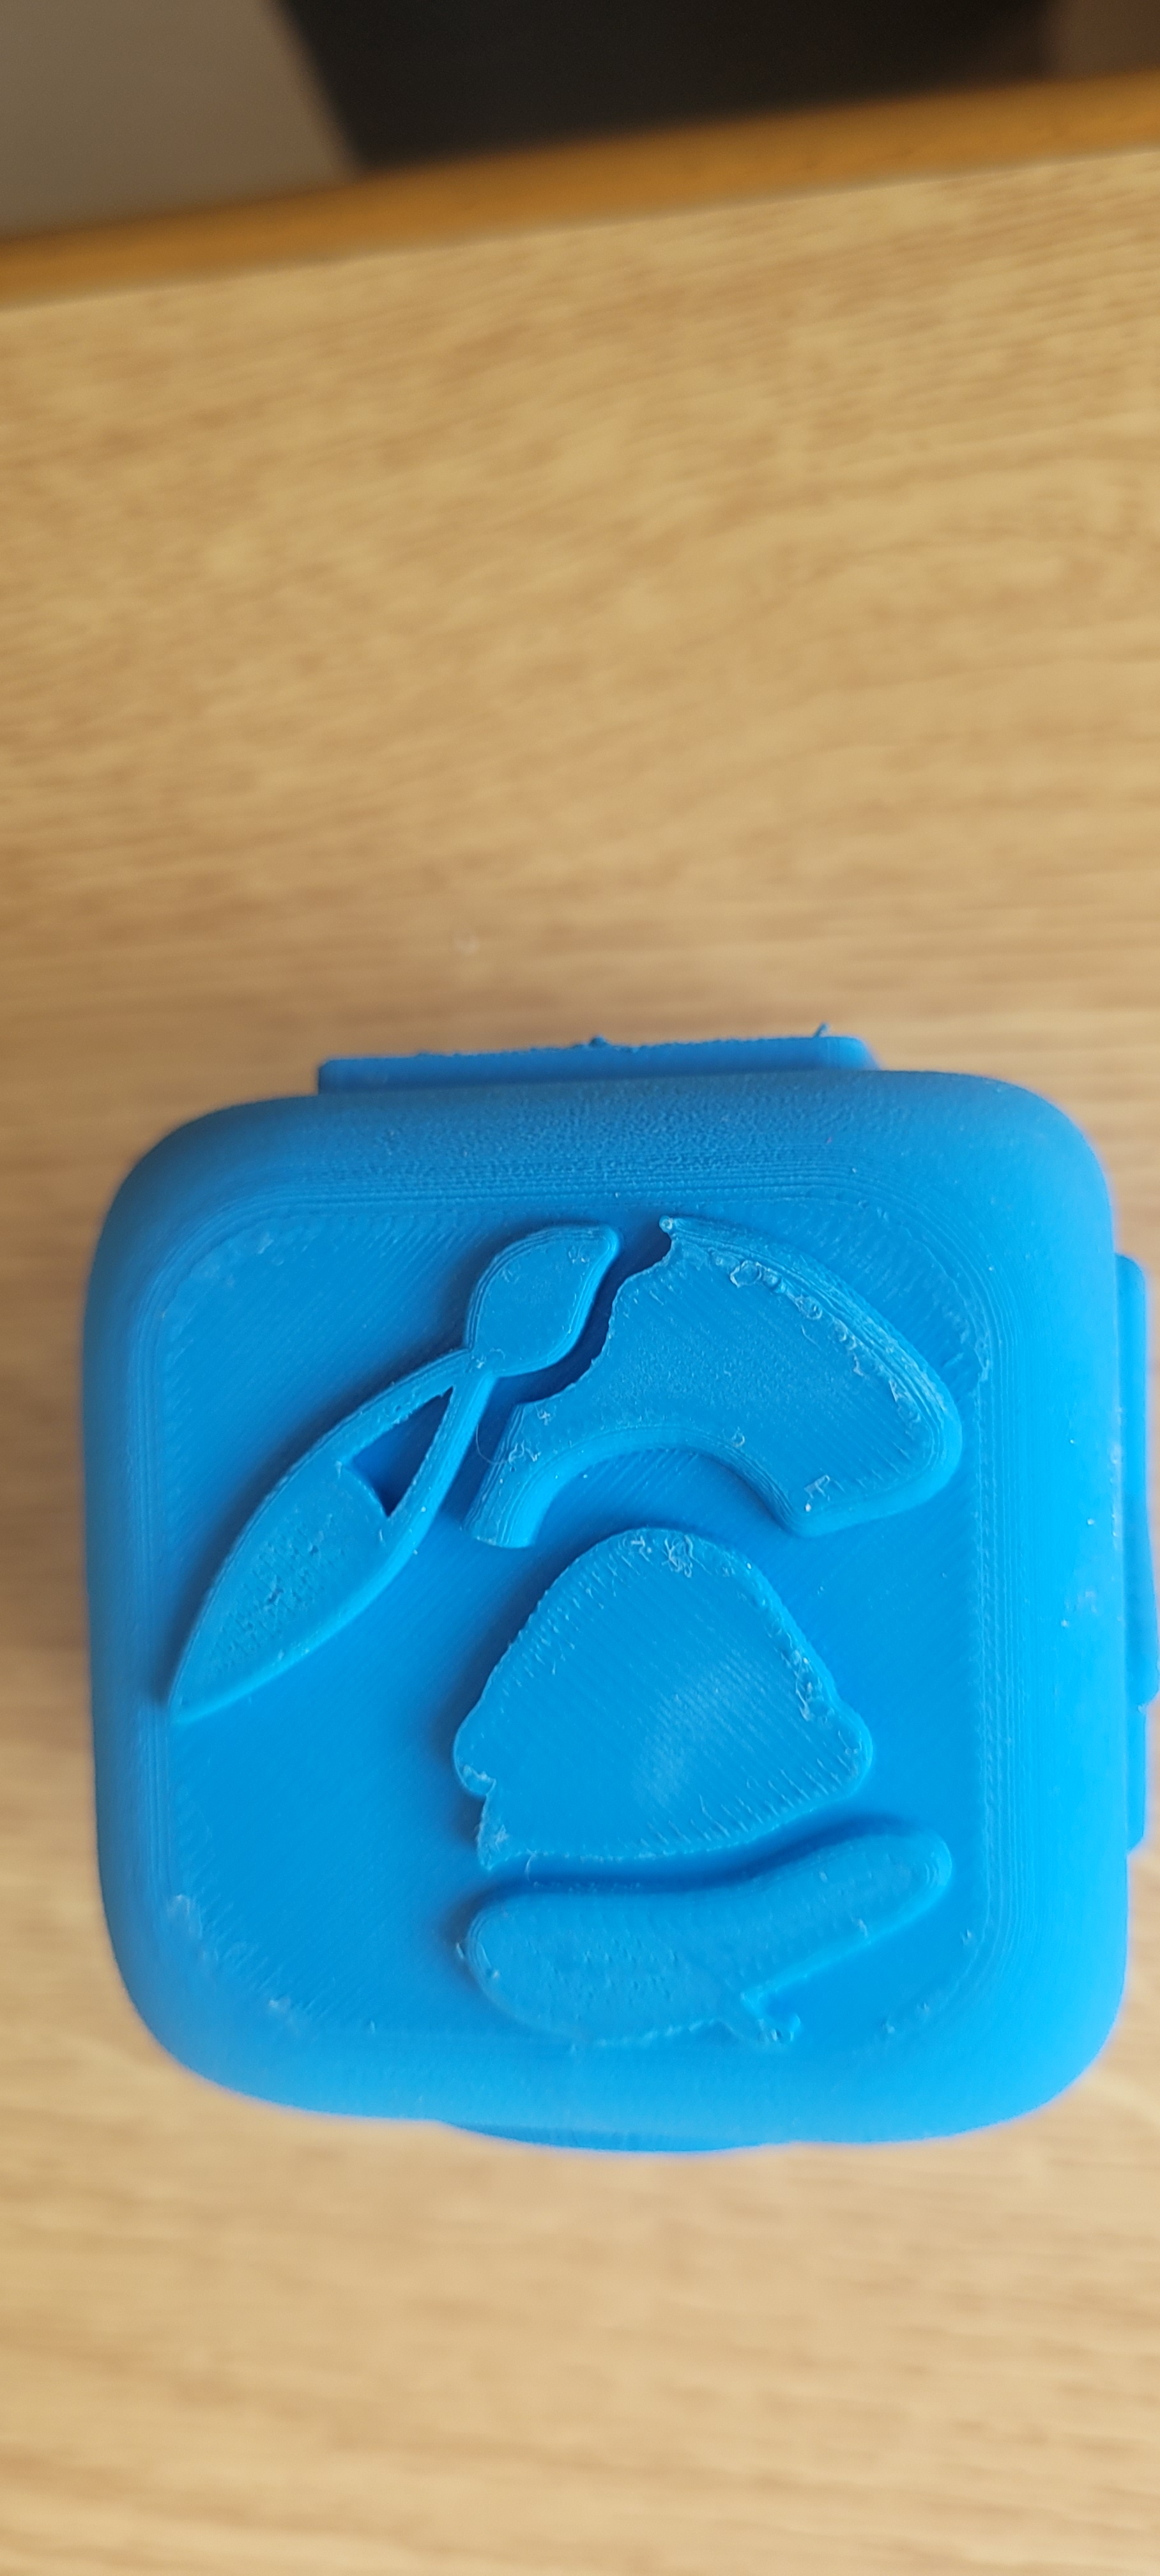Artist_Info: (89, 1066, 1122, 2149)
